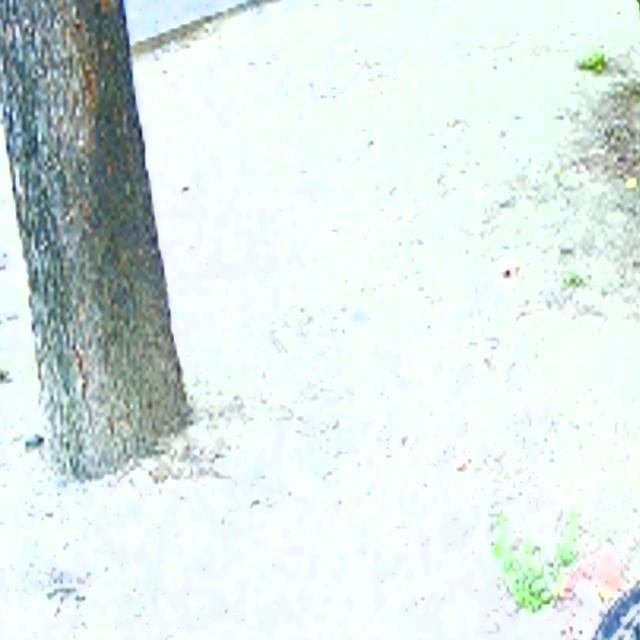circle: (444, 542, 640, 640)
